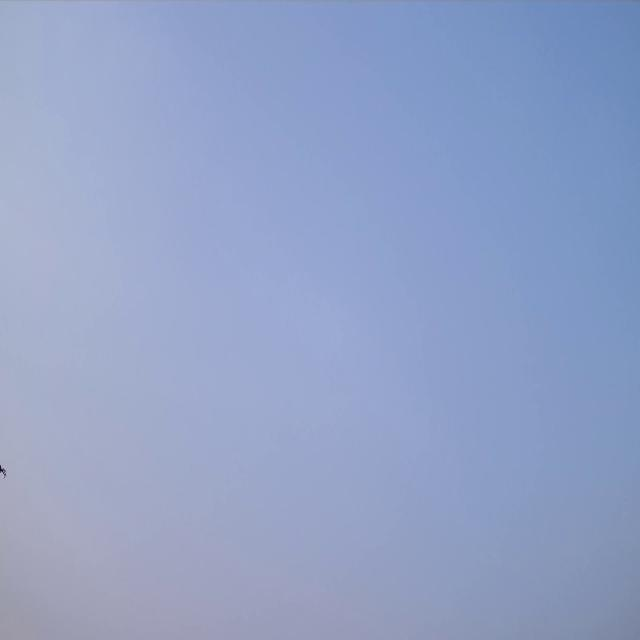UAV: (0, 462, 9, 480)
